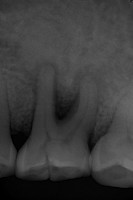Dental Caries: (73, 64, 112, 107), (24, 59, 60, 93), (52, 87, 82, 124)
